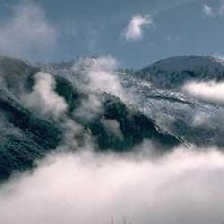neutral: (2, 3, 224, 190)
